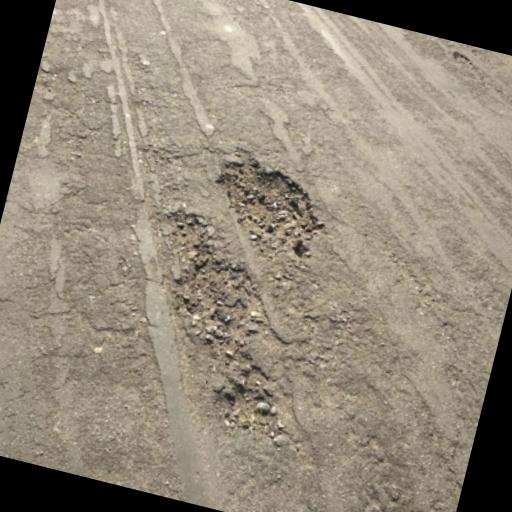pothole: (116, 204, 330, 442), (200, 141, 340, 268)
